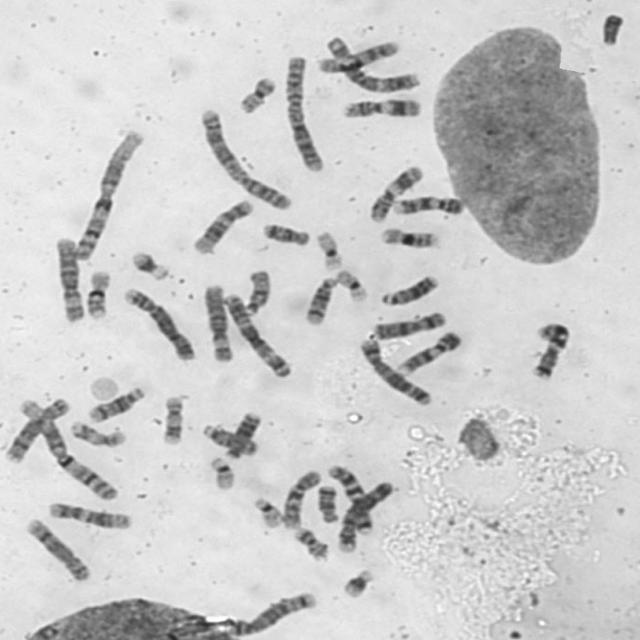A1: (19, 400, 120, 500), (68, 130, 144, 260)
A2: (199, 108, 293, 210), (284, 55, 324, 174)
A3: (222, 292, 292, 378), (326, 36, 421, 94)
B4: (122, 288, 197, 361), (336, 481, 394, 553)
B5: (359, 340, 432, 405), (229, 591, 317, 637)
C10: (318, 39, 398, 74), (283, 470, 322, 529)
C11: (369, 164, 423, 222), (343, 96, 421, 118)
C12: (192, 200, 253, 253), (47, 502, 131, 529)
C6: (55, 236, 85, 322), (203, 284, 234, 361)
C7: (326, 465, 373, 537), (531, 322, 573, 380)
C8: (5, 399, 71, 463), (25, 518, 90, 582)
C9: (400, 331, 462, 372), (392, 194, 464, 216)
D13: (225, 411, 262, 460), (380, 275, 440, 305)
D14: (88, 387, 146, 423), (305, 277, 339, 326)
D15: (202, 424, 259, 457), (244, 270, 271, 316)
E16: (86, 271, 113, 318), (379, 227, 436, 249)
E17: (68, 421, 126, 448), (162, 396, 184, 445)
E18: (262, 223, 310, 246), (316, 484, 339, 524)
F19: (315, 231, 343, 272), (334, 270, 368, 303)
F20: (238, 77, 277, 113), (294, 528, 328, 561)
G21: (131, 252, 169, 281), (343, 569, 375, 598)
G22: (254, 498, 282, 528), (210, 458, 234, 490)
X: (372, 310, 446, 340)
Y: (600, 13, 624, 46)
